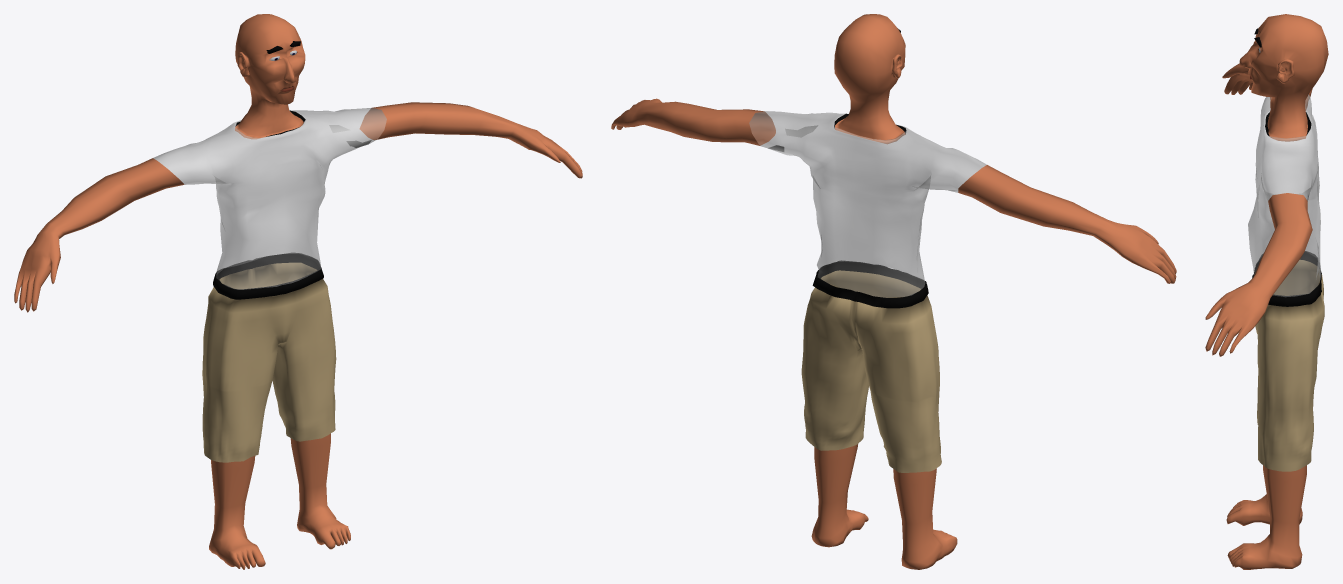
The model's file is human.obj.
3 renders of one model, left to right at view 1: azimuth 30°, elevation 25°; view 2: azimuth 150°, elevation 25°; view 3: azimuth 270°, elevation 25°, orthographic. The views are drawn at different scales.
Visible parts, largest first — view 1: Cube; view 2: Cube; view 3: Cube.
Boxes of the visible parts, left/top/right/bottom form: Cube: left=14, top=14, right=582, bottom=569; Cube: left=611, top=14, right=1176, bottom=569; Cube: left=1205, top=14, right=1328, bottom=569.
Size of the model in its own units: 16.19 by 14.56 by 3.08.
